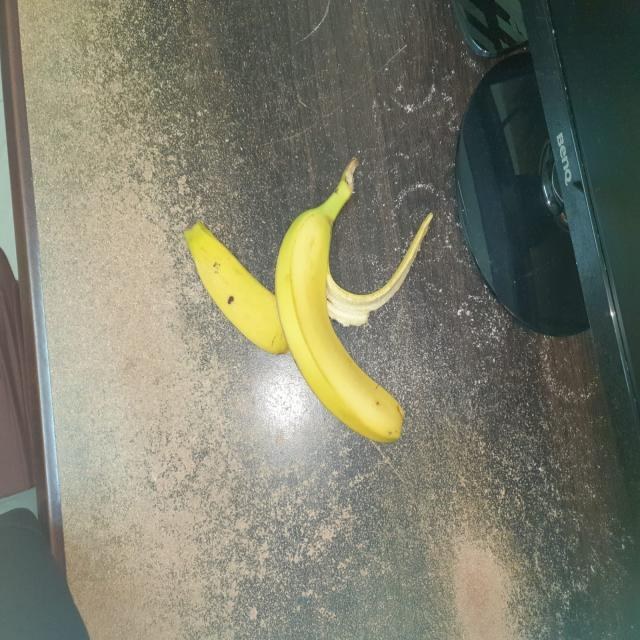banana-peel: (190, 159, 449, 444)
